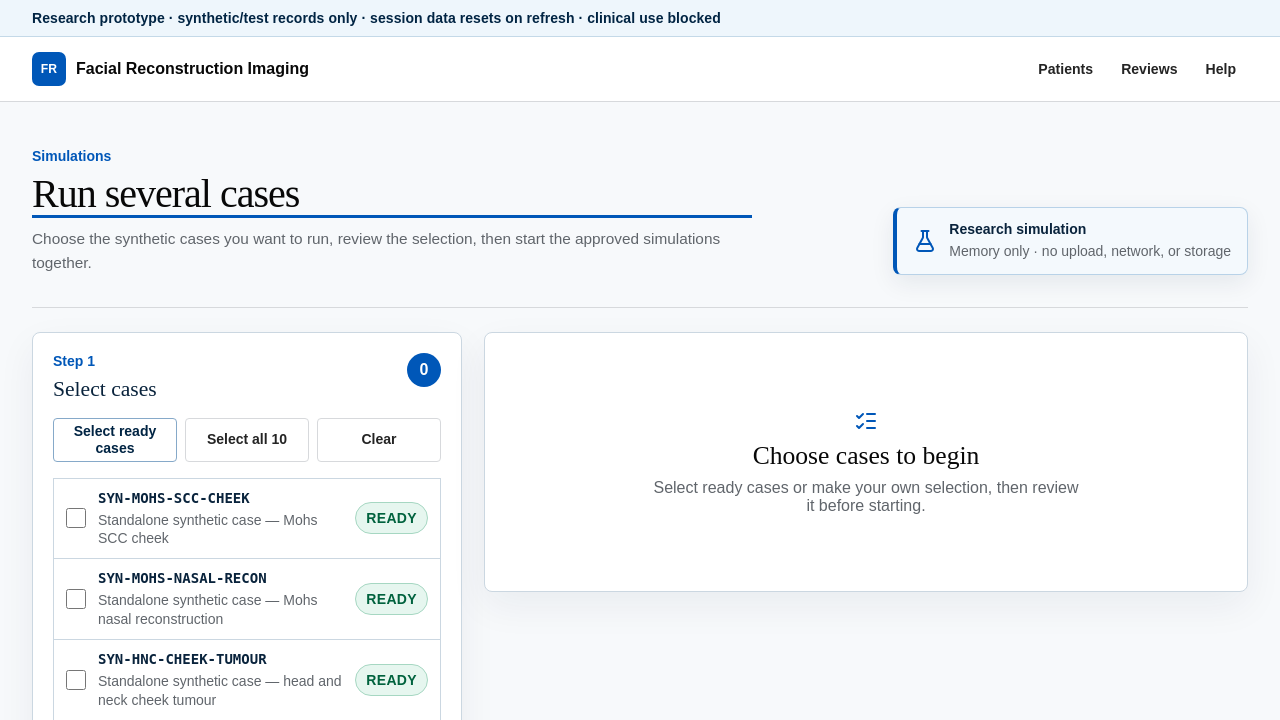
it: production batch route integration › preserves the app-lifetime batch after returning to the clinician entry
Click the checkbox labelled "SYN-HNC-CHEEK-TUMOUR". click: (76, 680)
box: [66,670,86,690]
(page scrolled)
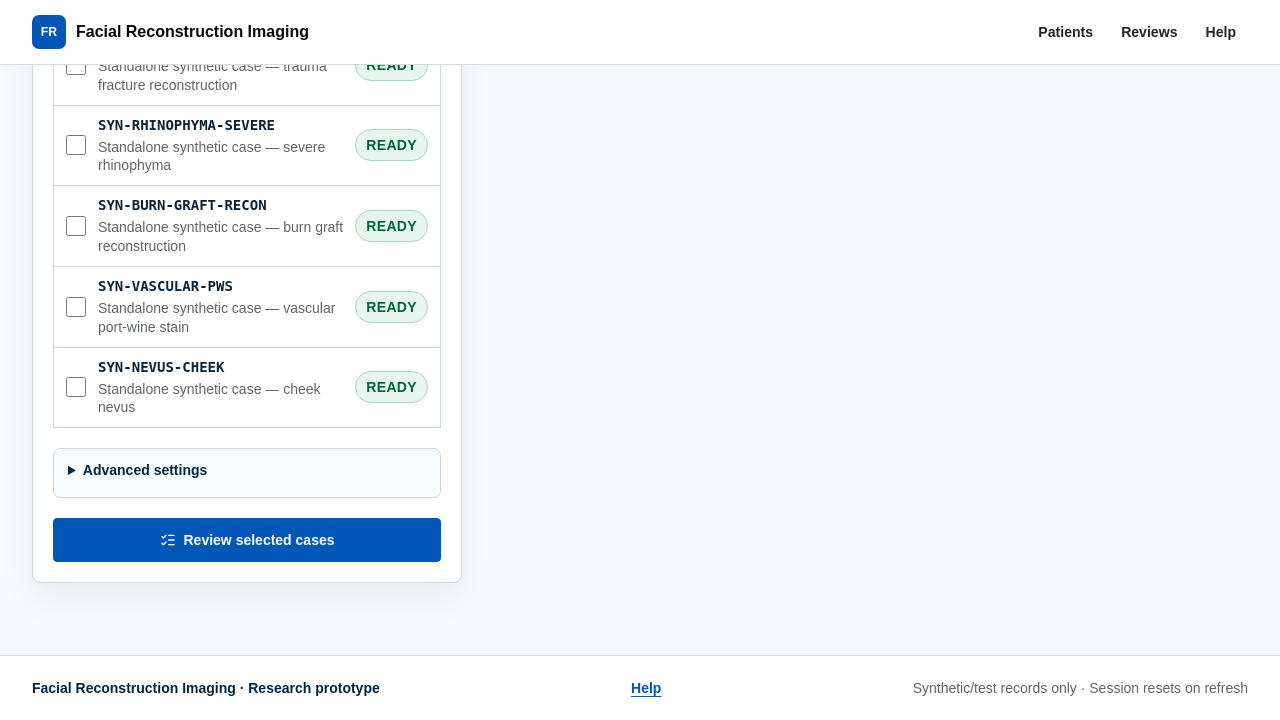
Click the button "Review selected cases". click: (247, 540)
box: [53,518,441,562]
(page scrolled)
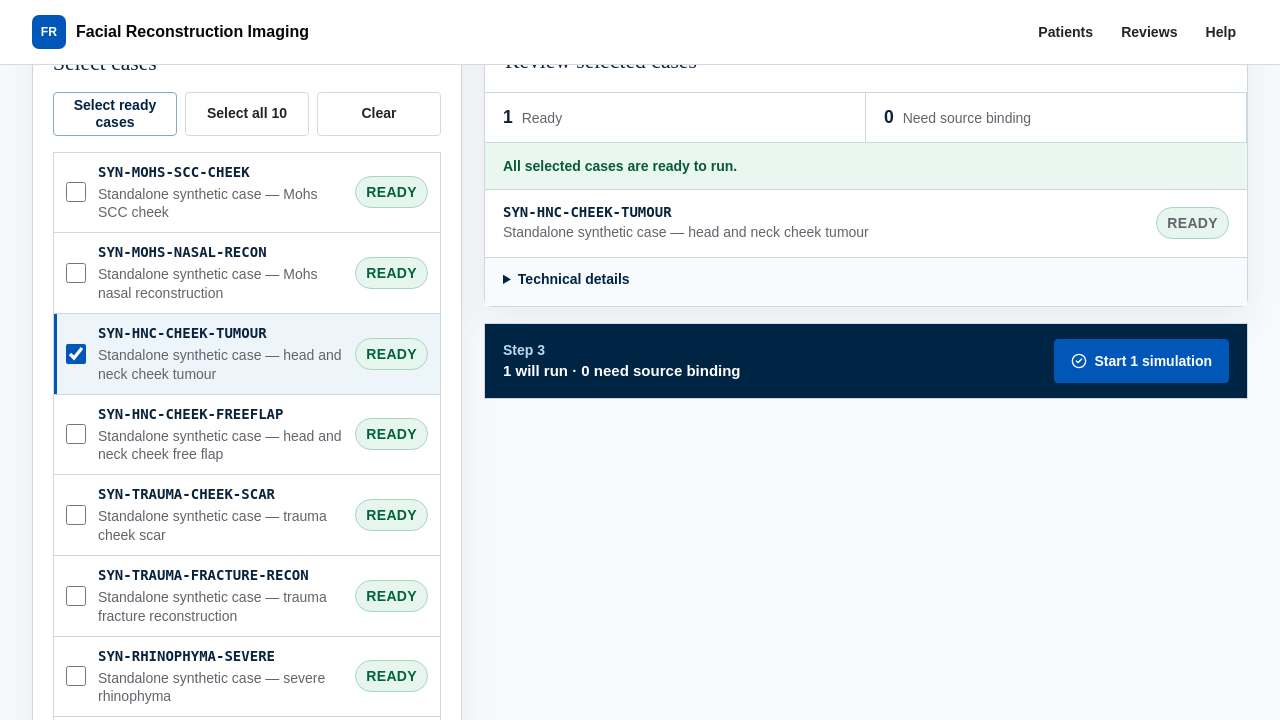
Click the button "Start 1 simulation". click: (1141, 361)
box: [1054,339,1229,383]
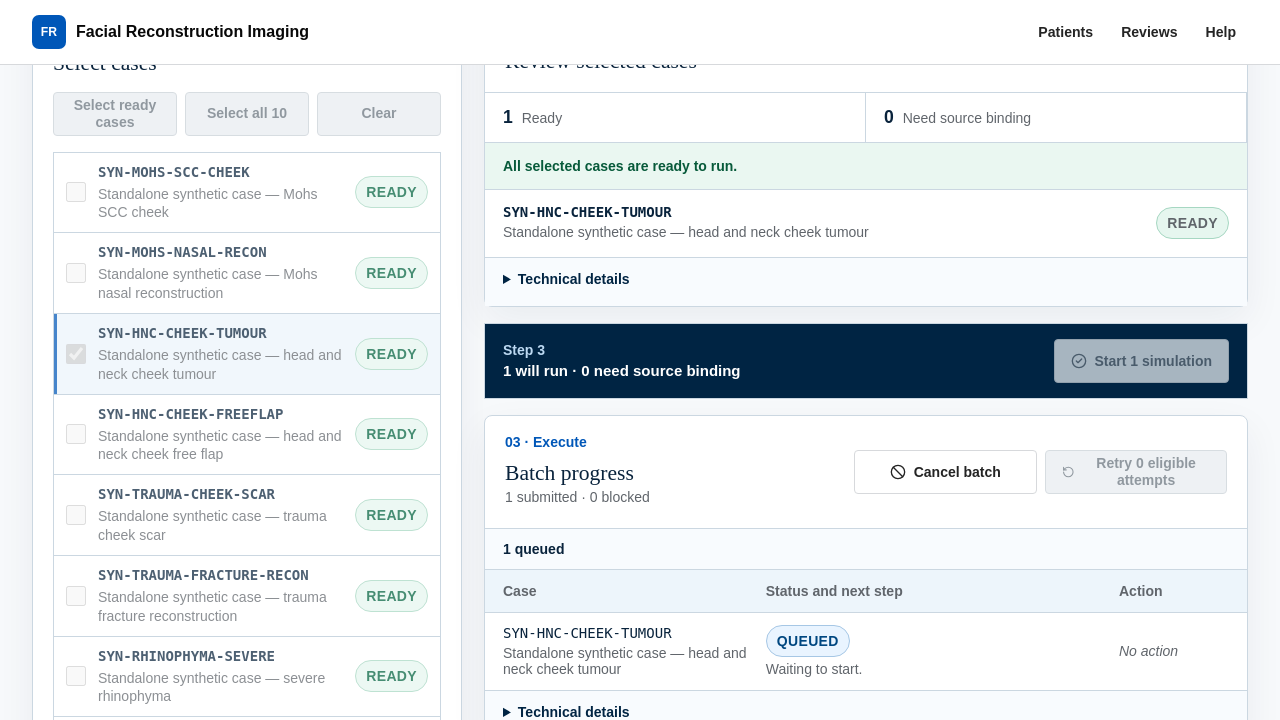
Click the link "FR Facial Reconstruction Imaging". click: (170, 32)
box: [32,10,309,54]
(page scrolled)
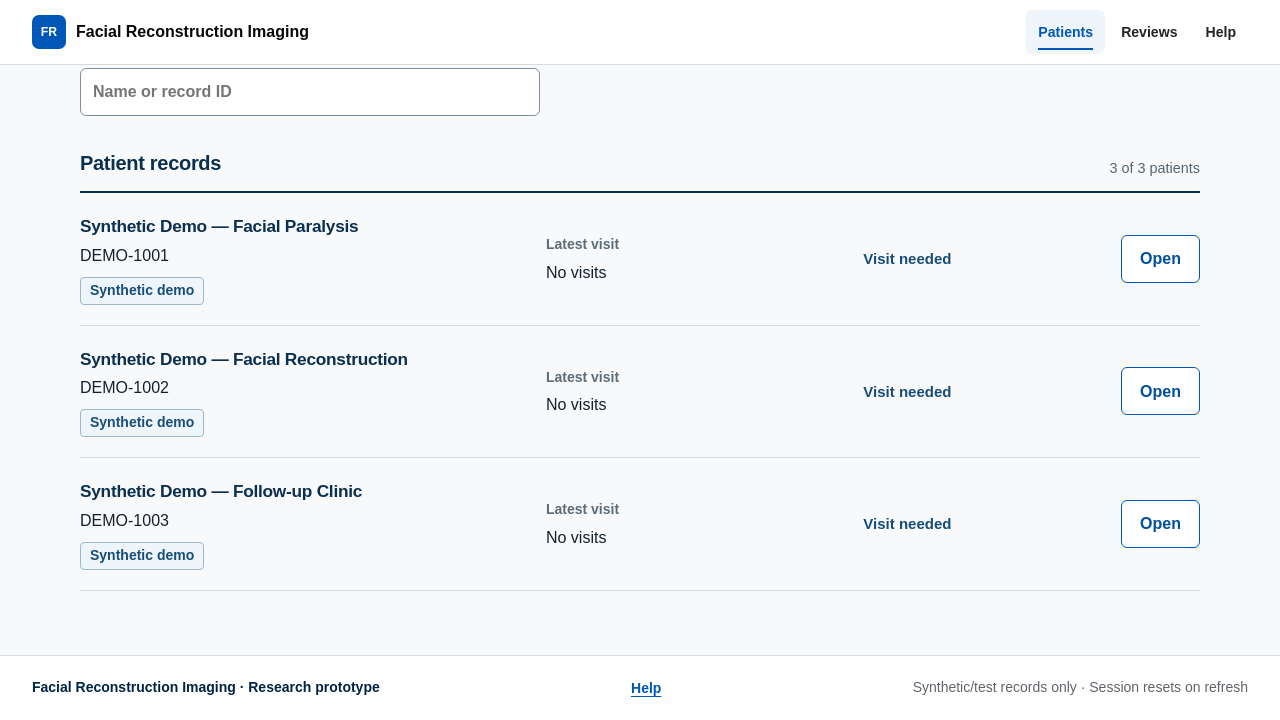
Click the link "Help" next to "Reviews". click: (1221, 32)
box: [1206,24,1236,40]
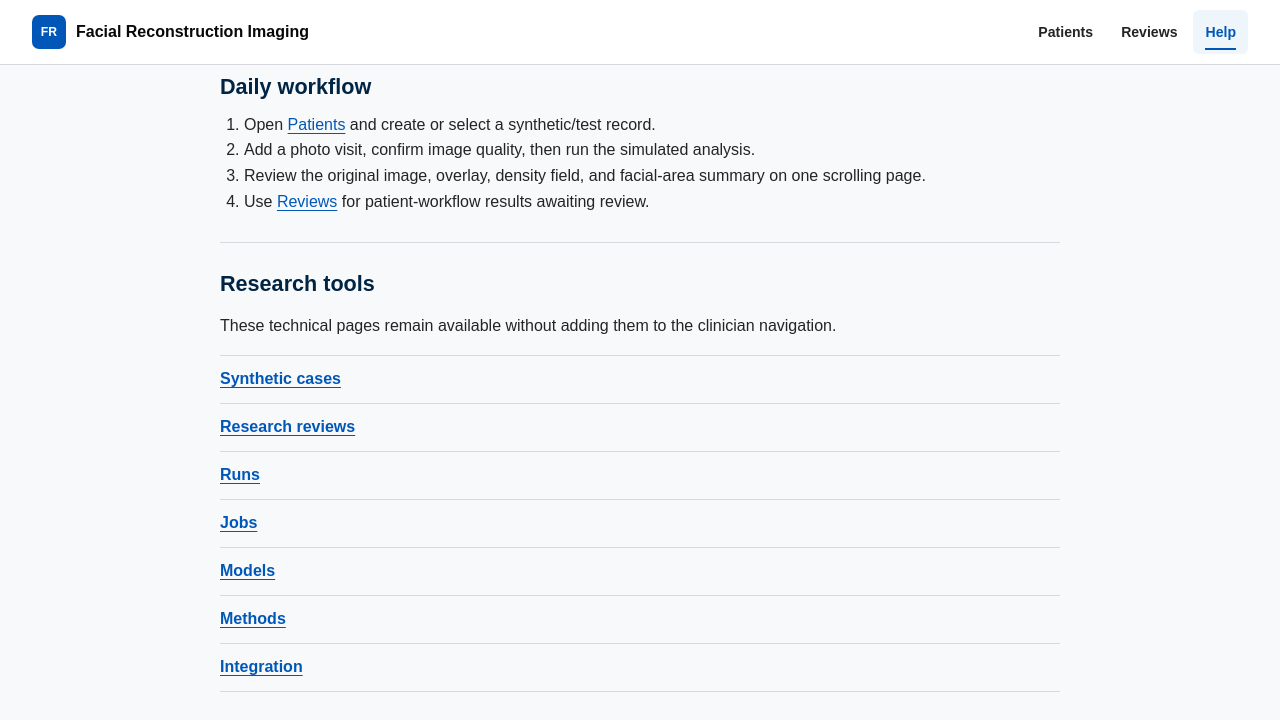
Click the link "Jobs". click: (239, 523)
box: [220,500,1060,548]
(page scrolled)
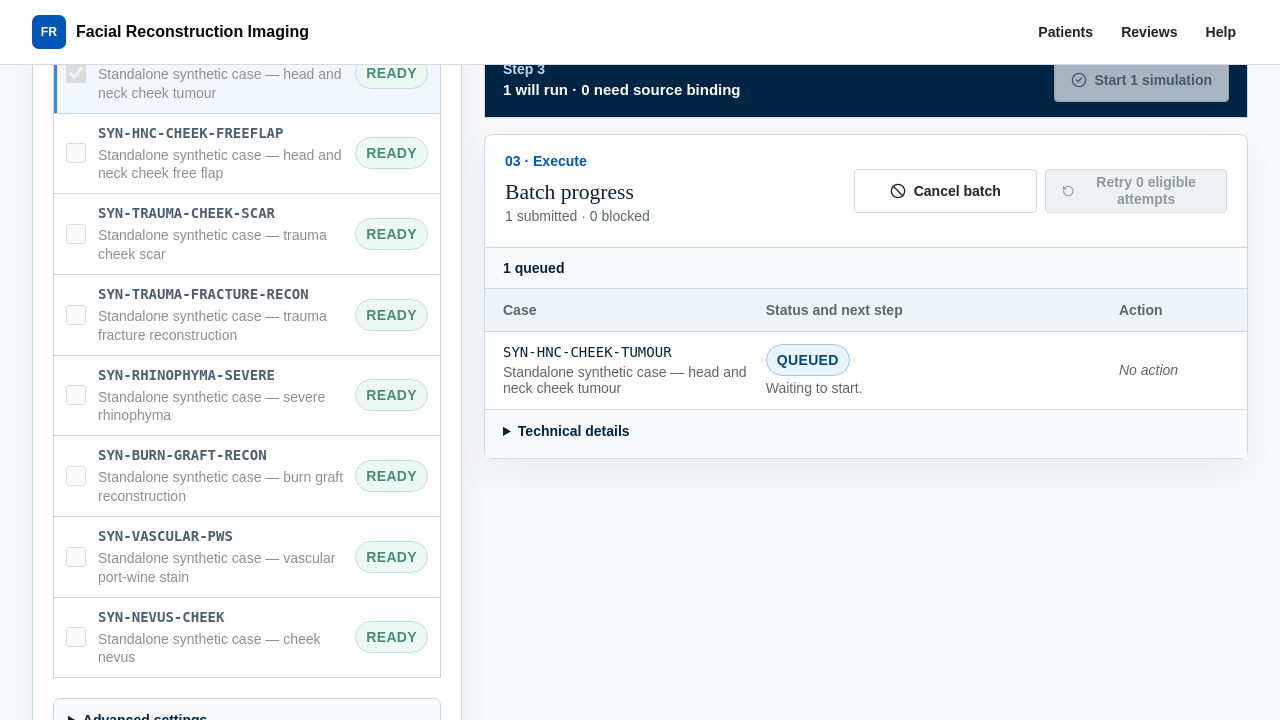
Now the heading "Batch progress" is shown, box [505,180,650,205]
Now the text "queued" is shown, box [766,344,850,376]
